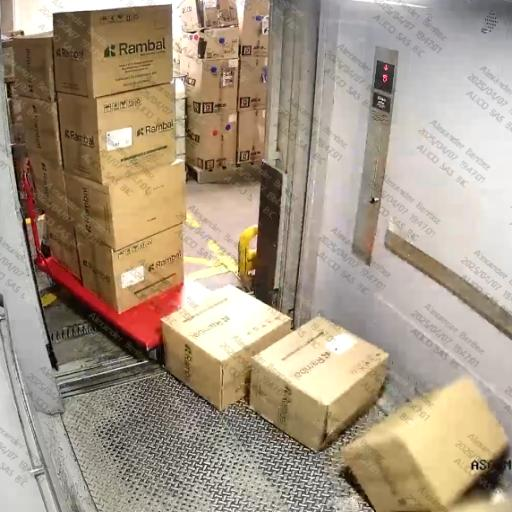Caja caida: (18, 17, 509, 512)
